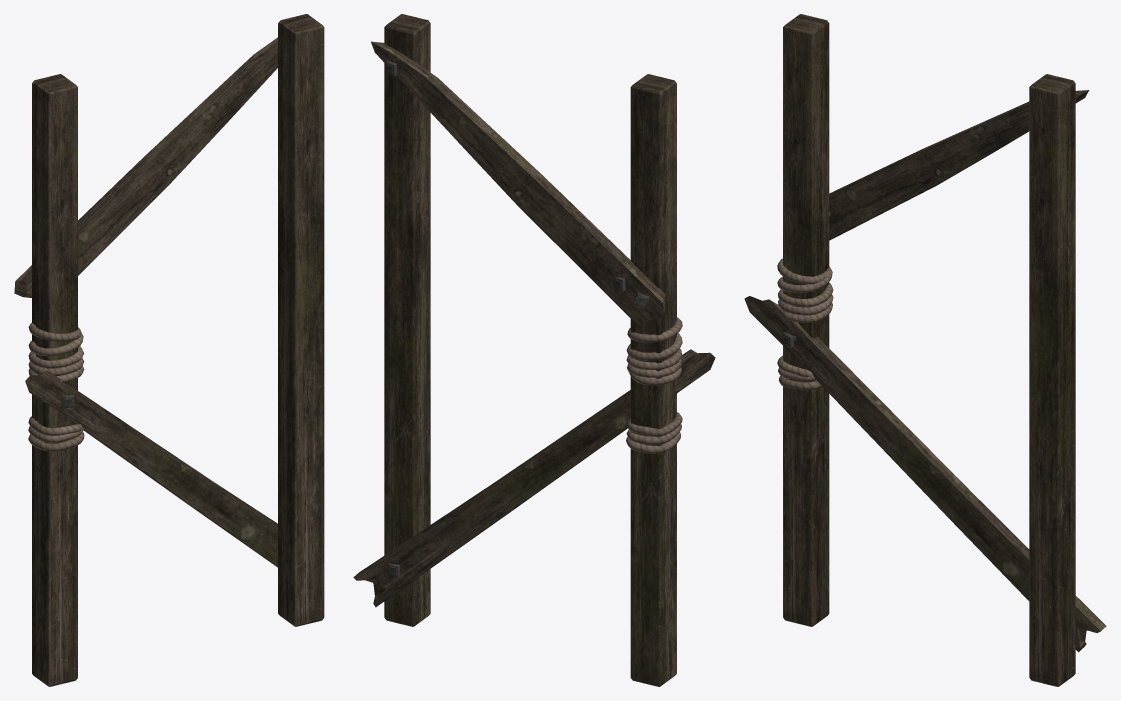
The model's file is dock_lower04.fbx.
3 renders of one model, left to right at view 1: azimuth 30°, elevation 25°; view 2: azimuth 150°, elevation 25°; view 3: azimuth 330°, elevation 25°, orthographic.
Parts seen in each view (by area): view 1: dock_lower04; view 2: dock_lower04; view 3: dock_lower04.
Boxes of the visible parts, x1=… form: dock_lower04: x1=14, y1=14, x2=324, y2=686; dock_lower04: x1=353, y1=14, x2=715, y2=686; dock_lower04: x1=744, y1=14, x2=1106, y2=686.
Bounding box in the file's own units: 399 × 691 × 81.6.
